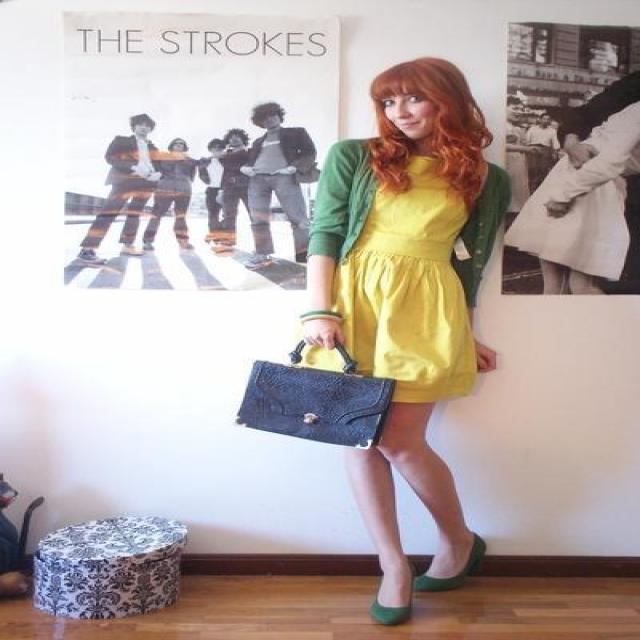bag: (237, 345, 395, 446)
dress: (291, 157, 496, 402)
jacket: (294, 139, 517, 319)
shoe: (371, 537, 506, 626)
